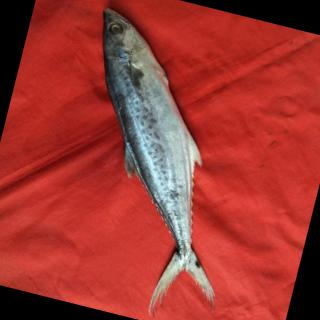Ikan: (28, 1, 282, 320)
